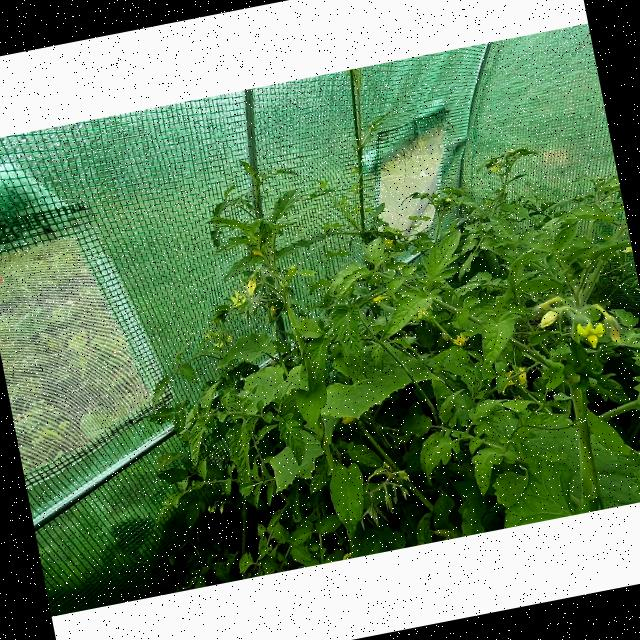Flowers: (492, 362, 530, 394), (574, 317, 609, 350), (230, 288, 249, 310), (454, 330, 471, 348), (248, 276, 260, 296), (490, 161, 504, 174), (212, 338, 223, 349), (204, 330, 212, 340), (225, 335, 232, 342)
